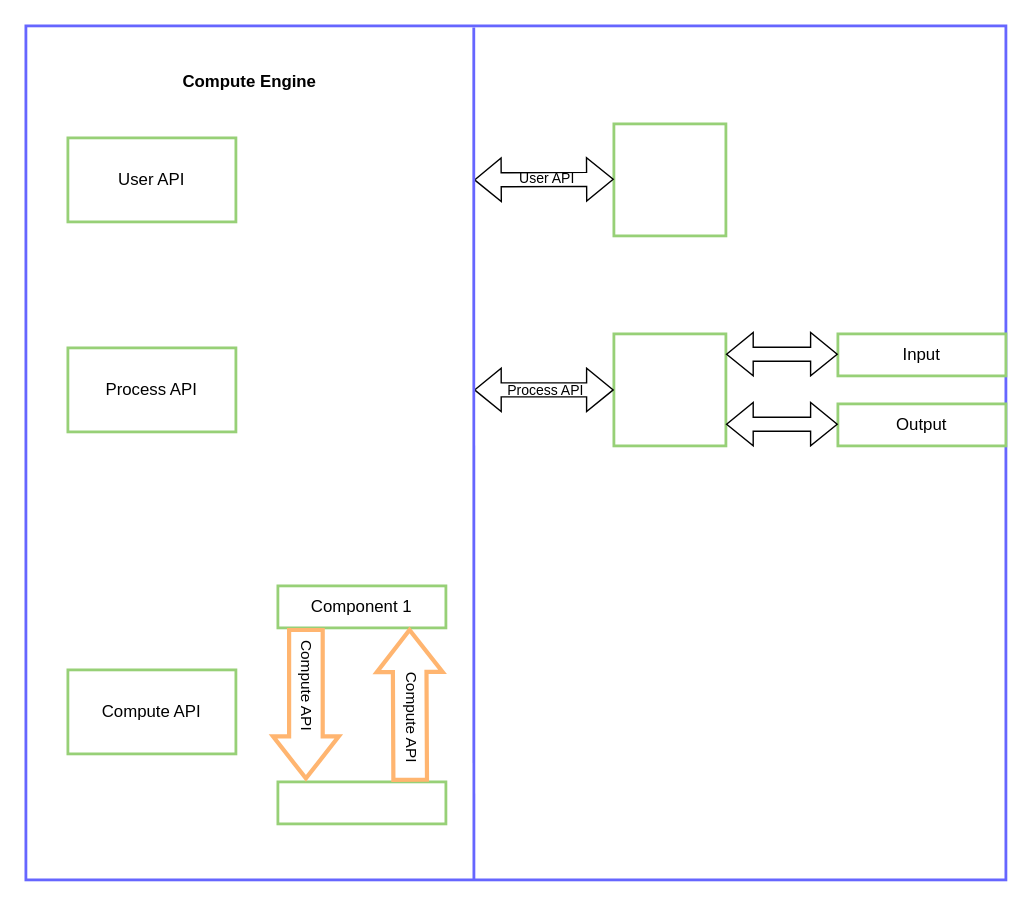
Image size: 1030x906. Some labels were removed from this diagram. The box of each missing label's shape, as (x1, y1, x2, y2) in pixels:
Component 2: (276, 780, 447, 825)
Data Storage System: (612, 332, 727, 447)
User: (612, 122, 727, 237)
